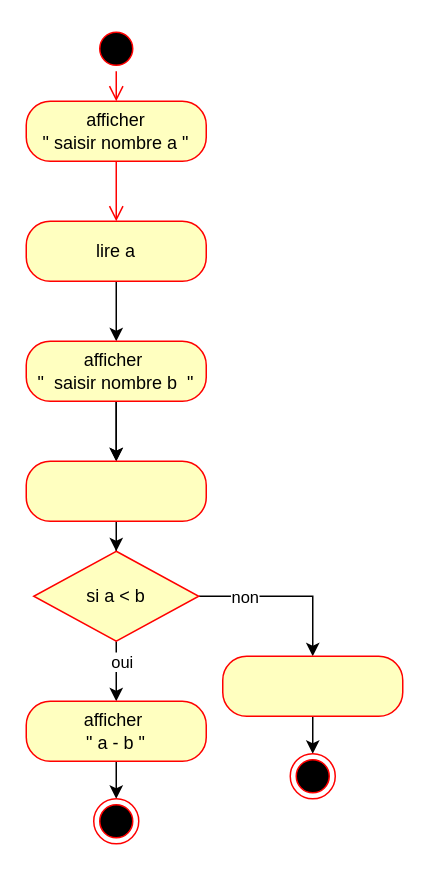
The diagram is 429 pixels wide and 870 high, and some of its shapes have lost their labels. The box of each missing label's shape, as (x1, y1, x2, y2) in pixels:
afficher " b-a ": (221, 655, 403, 716)
lire b: (25, 460, 206, 521)
